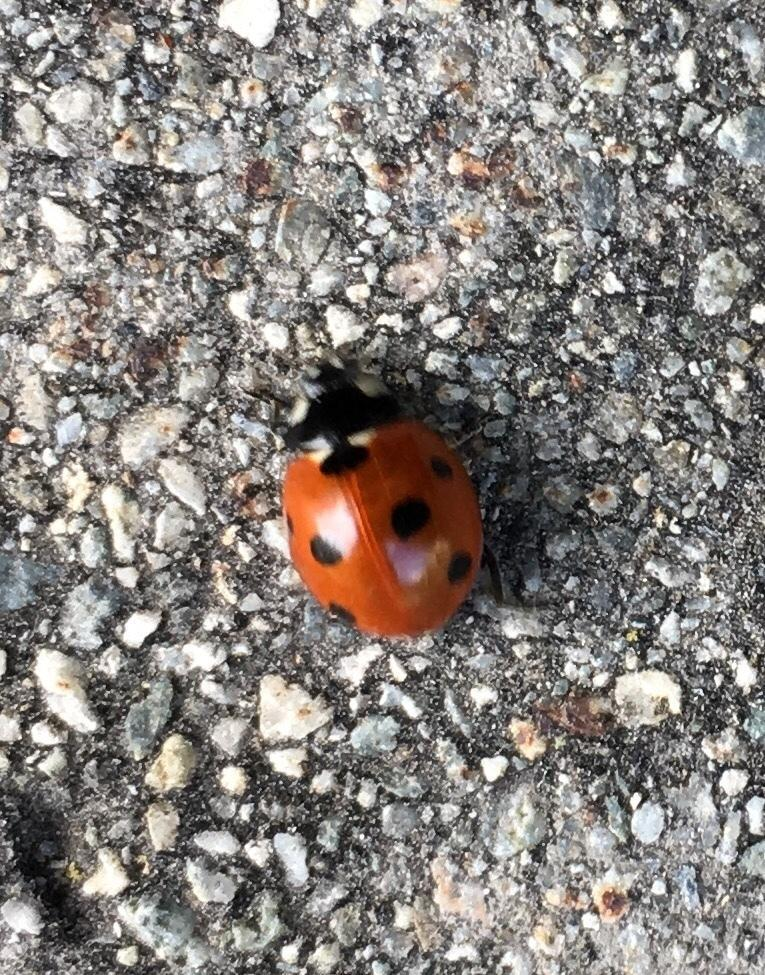ladybug: (281, 351, 491, 636)
